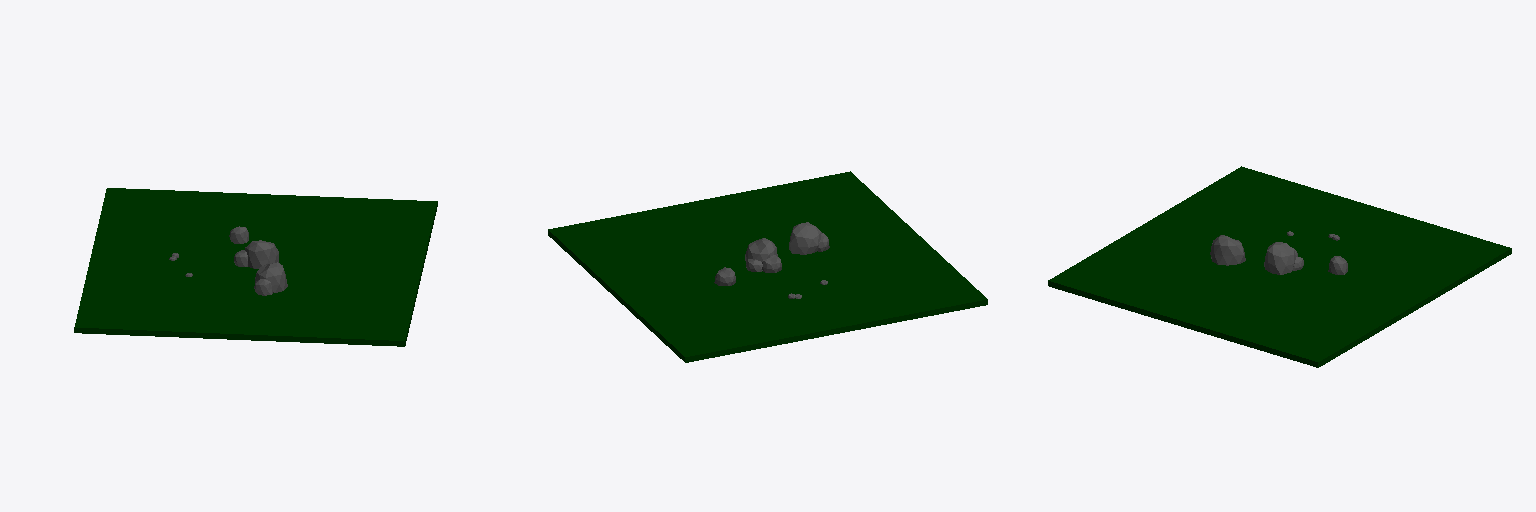
File: rock.obj
3 renders of one model, left to right at view 1: azimuth 30°, elevation 25°; view 2: azimuth 150°, elevation 25°; view 3: azimuth 270°, elevation 25°, orthographic.
Parts seen in each view (by area): view 1: Cube, Icosphere, Icosphere.005; view 2: Cube, Icosphere.005, Icosphere; view 3: Cube, Icosphere.005, Icosphere.
Boxes of the visible parts, x1,y1,x2,y2 form: Cube: [74, 188, 437, 346]; Icosphere: [245, 240, 278, 268]; Icosphere.005: [255, 262, 287, 292]; Cube: [548, 171, 987, 362]; Icosphere.005: [789, 222, 821, 254]; Icosphere: [745, 238, 777, 263]; Cube: [1048, 166, 1511, 367]; Icosphere.005: [1211, 235, 1245, 265]; Icosphere: [1264, 242, 1295, 274].
Bounding box in the file's own units: 28.89 × 1.94 × 28.89.